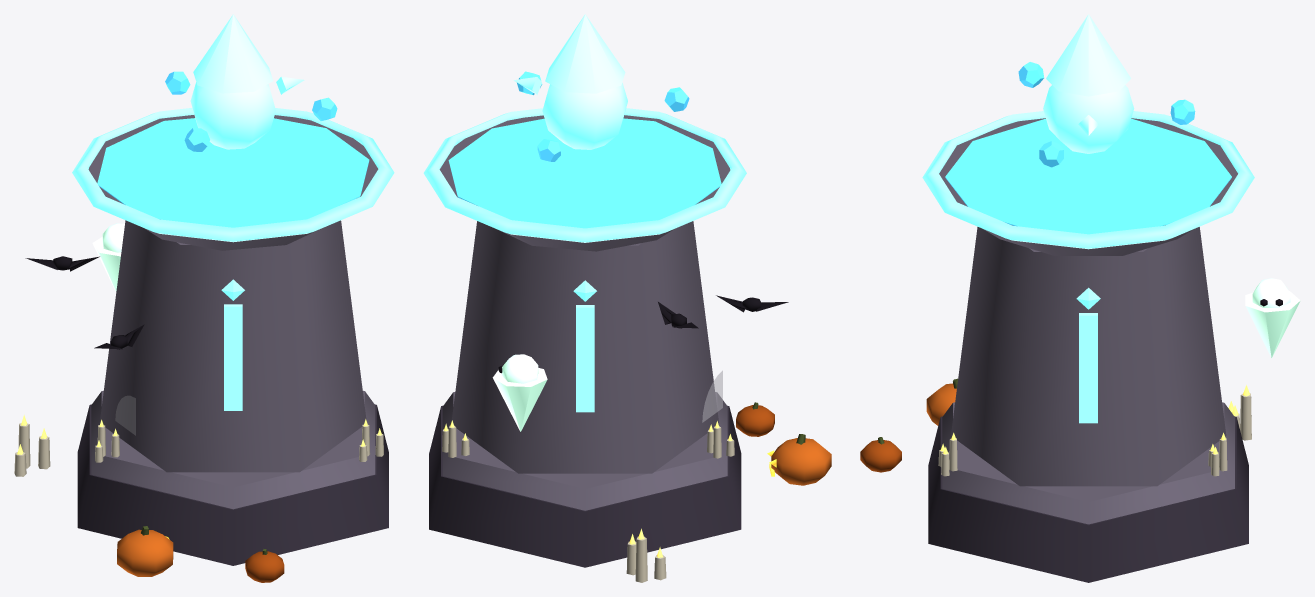
File: tower_element_elementWater.glb
The picture shows the model from 3 angles, left to right: view 1: azimuth 30°, elevation 25°; view 2: azimuth 150°, elevation 25°; view 3: azimuth 270°, elevation 25°; orthographic projection. The views are drawn at different scales.
Visible parts, largest first — view 1: pillar, basin_water, base, base_top, basin_rim, crystal, crystal_tip, basin, deco_hw_jack_body, rune_2, deco_hw_candles, deco_hw_pumpkin_body (+5 smaller); view 2: pillar, basin_water, base, base_top, basin_rim, crystal, crystal_tip, basin, deco_hw_jack_body, rune_1, deco_hw_ghost_sheet, deco_hw_candles (+5 smaller); view 3: pillar, basin_water, base, base_top, basin_rim, crystal, crystal_tip, basin, rune_0, deco_hw_ghost_sheet, deco_hw_pumpkin_body, deco_hw_ghost_head (+4 smaller).
Part boxes in pixels (x1,y1,x2,y2): pillar: [99, 220, 366, 472]; basin_water: [97, 118, 369, 227]; base: [77, 404, 388, 565]; base_top: [91, 390, 375, 509]; basin_rim: [72, 108, 394, 242]; crystal: [190, 82, 275, 149]; crystal_tip: [193, 14, 272, 93]; basin: [88, 115, 378, 250]; deco_hw_jack_body: [117, 529, 173, 576]; rune_2: [224, 304, 242, 410]; deco_hw_candles: [14, 415, 50, 476]; deco_hw_pumpkin_body: [245, 551, 284, 582]; pillar: [451, 221, 719, 473]; basin_water: [448, 118, 721, 228]; base: [429, 405, 741, 567]; base_top: [442, 392, 727, 510]; basin_rim: [423, 108, 746, 242]; crystal: [542, 82, 627, 149]; crystal_tip: [545, 14, 625, 93]; basin: [439, 115, 730, 251]; deco_hw_jack_body: [771, 438, 831, 485]; rune_1: [576, 305, 594, 412]; deco_hw_ghost_sheet: [492, 368, 547, 431]; deco_hw_candles: [626, 528, 666, 582]; pillar: [951, 227, 1226, 486]; basin_water: [945, 119, 1231, 234]; base: [928, 416, 1248, 582]; base_top: [942, 402, 1234, 524]; basin_rim: [922, 111, 1254, 249]; crystal: [1043, 85, 1134, 153]; crystal_tip: [1046, 14, 1130, 96]; basin: [939, 118, 1237, 255]; rune_0: [1079, 313, 1097, 423]; deco_hw_ghost_sheet: [1245, 291, 1300, 358]; deco_hw_pumpkin_body: [860, 440, 901, 472]; deco_hw_ghost_head: [1252, 278, 1290, 307].
Size of the model in its own units: 0.4175 by 0.57 by 0.4636.
